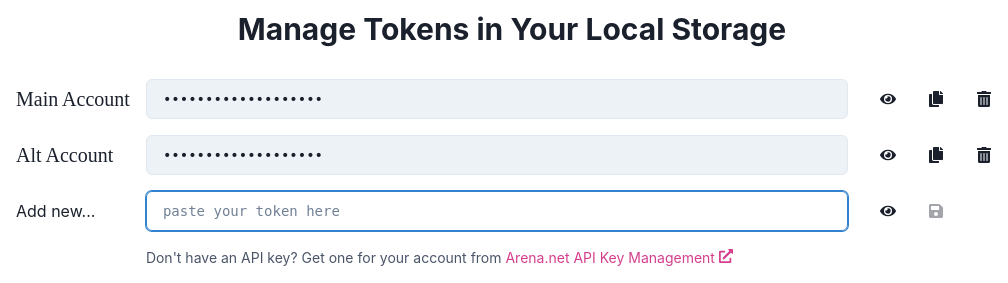
Settings › reveals a token when clicking the reveal button
Click the 1st button named "Reveal token": (888, 99) [864,79,912,119]
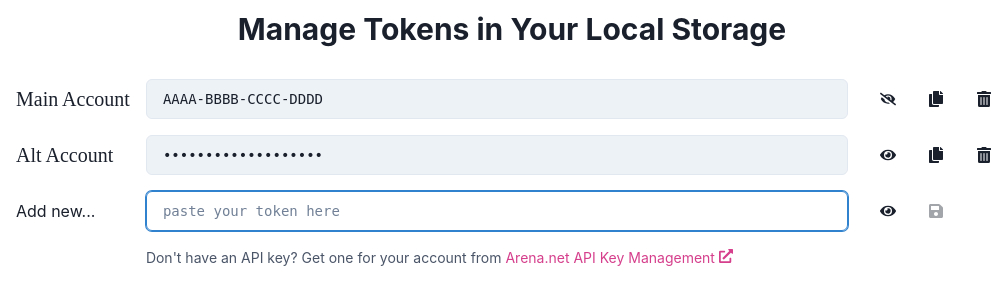
Now the field showing "AAAA-BBBB-CCCC-DDDD" shows its text, box [146,79,848,119]
